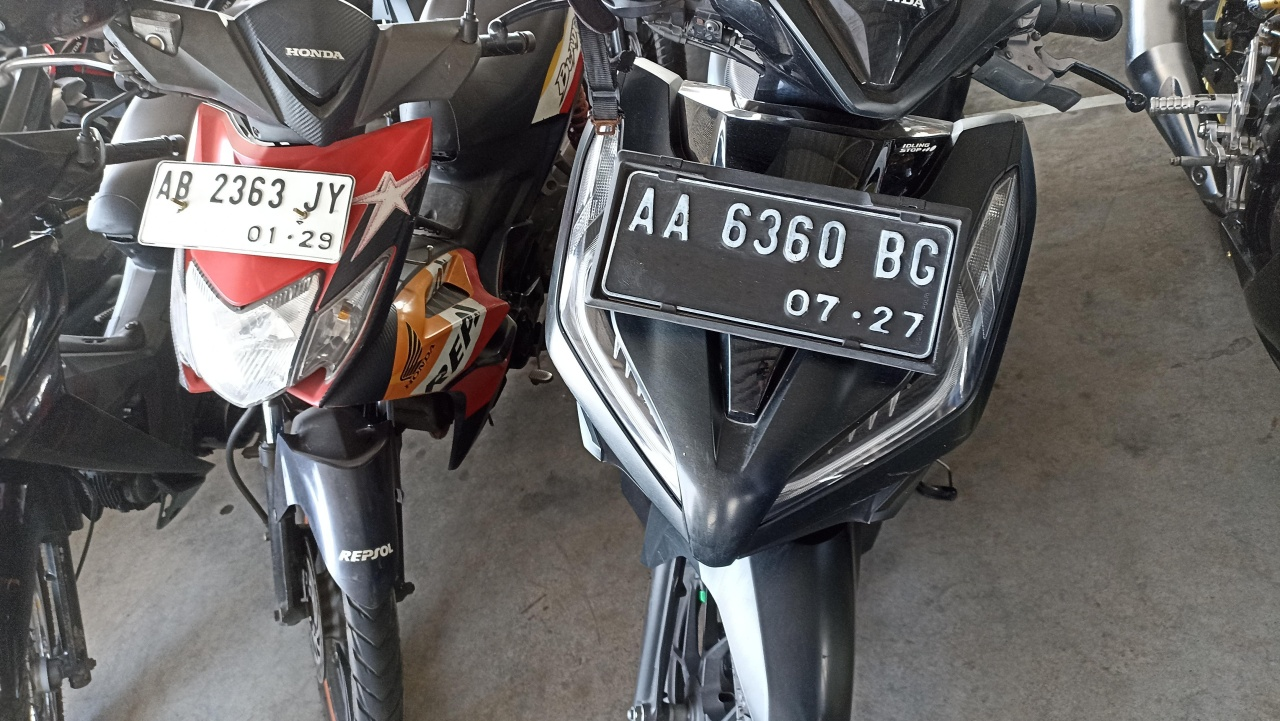plate: (589, 157, 970, 368), (138, 161, 352, 262)
